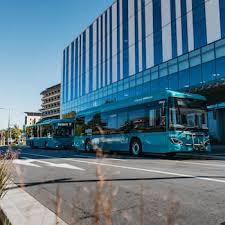bus: (72, 90, 212, 157), (25, 116, 74, 150)
